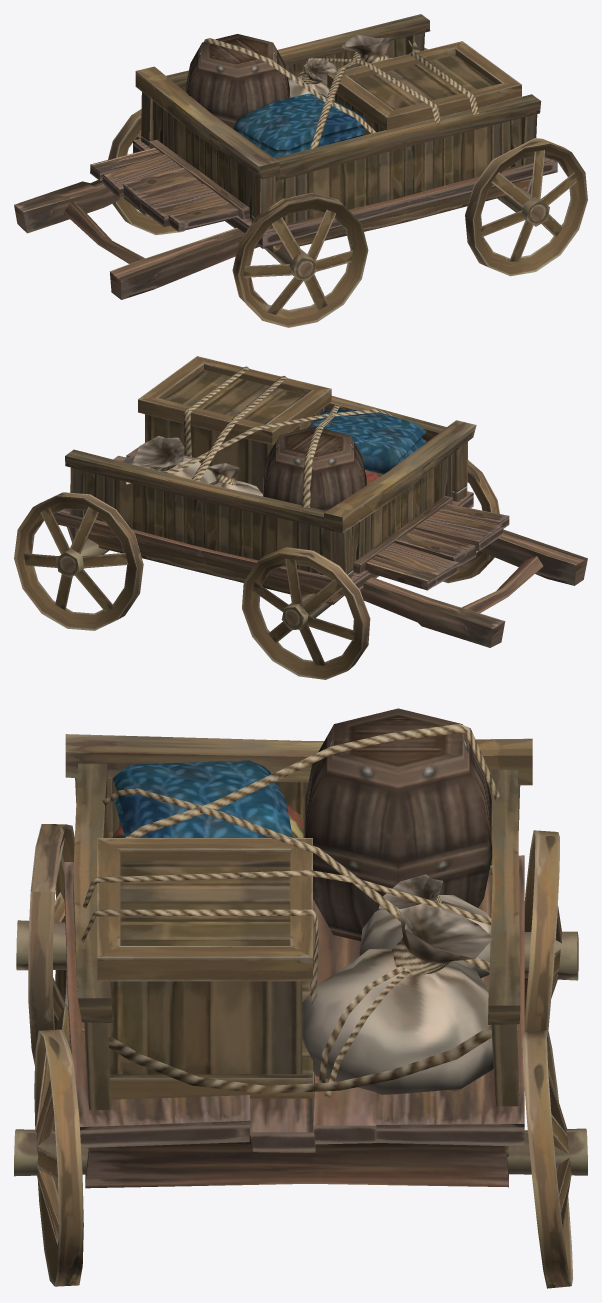
File: handan_field_o_s01.fbx
The picture shows the model from 3 angles, top to bottom: view 1: azimuth 30°, elevation 25°; view 2: azimuth 150°, elevation 25°; view 3: azimuth 270°, elevation 25°; orthographic projection. The views are drawn at different scales.
Parts seen in each view (by area): view 1: handan_field_o_s01; view 2: handan_field_o_s01; view 3: handan_field_o_s01.
Part boxes in pixels (x1,y1,x2,y2): handan_field_o_s01: (14, 14, 587, 327); handan_field_o_s01: (14, 356, 587, 679); handan_field_o_s01: (14, 708, 587, 1288).
Size of the model in its own units: 430 by 184 by 257.
